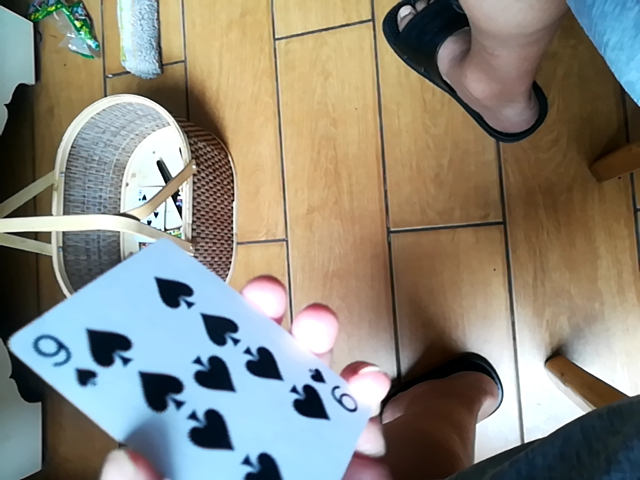ht 9: (10, 236, 397, 479)
